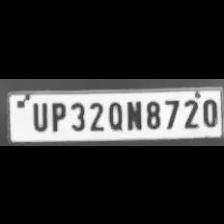0: (200, 96, 218, 127)
2: (178, 96, 200, 128), (86, 99, 104, 131)
3: (67, 97, 87, 130)
7: (161, 96, 179, 128)
8: (142, 97, 162, 129)
N: (124, 98, 142, 130)
P: (47, 99, 66, 131)
Q: (104, 98, 124, 130)
U: (28, 99, 48, 131)
